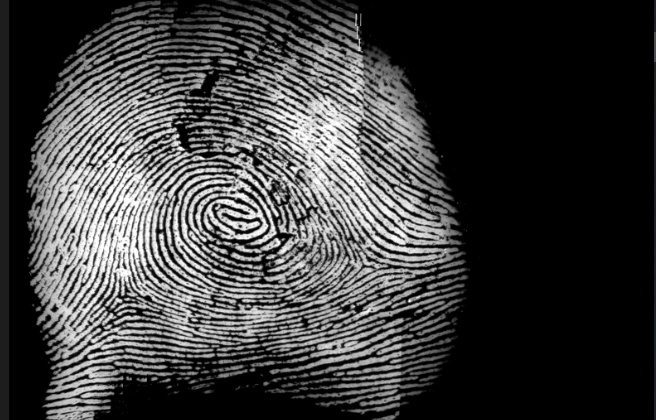nucelo: (199, 194, 264, 239)
verticilo: (106, 272, 143, 309), (346, 247, 382, 277)
